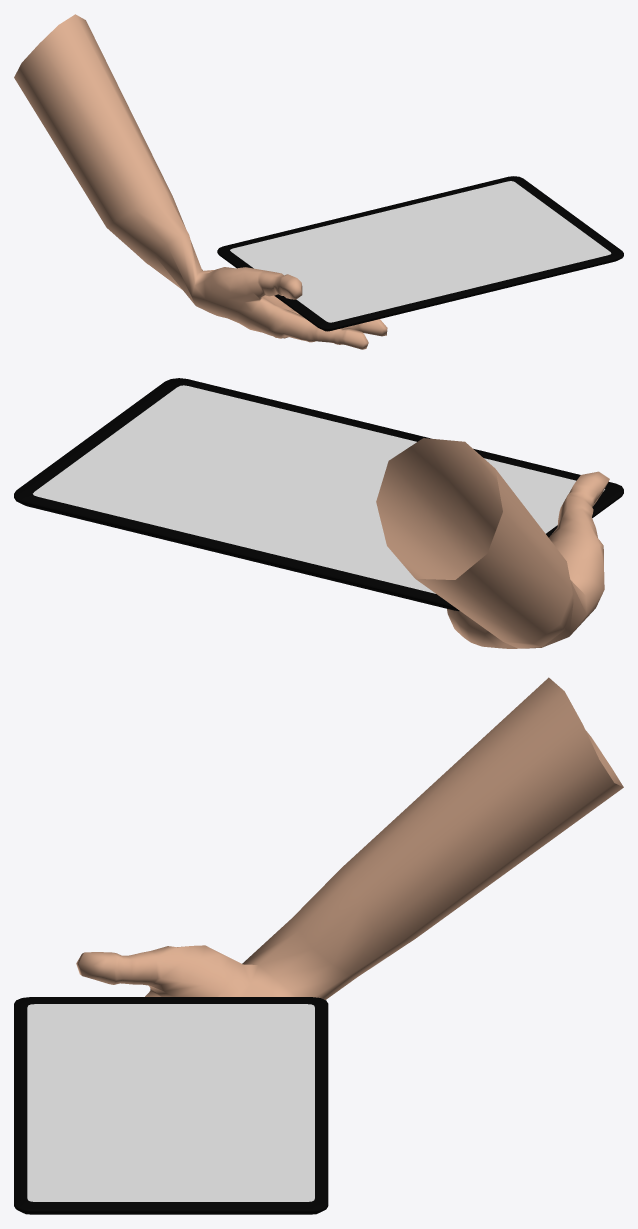
The model's file is tablet1.fbx.
3 renders of one model, top to bottom at view 1: azimuth 30°, elevation 25°; view 2: azimuth 150°, elevation 25°; view 3: azimuth 270°, elevation 25°, orthographic. The views are drawn at different scales.
Parts seen in each view (by area): view 1: polySurface156, polySurface155, polySurface154; view 2: polySurface155, polySurface156, polySurface154; view 3: polySurface155, polySurface156, polySurface154.
Boxes of the visible parts, x1=… form: polySurface156: x1=14, y1=14, x2=387, y2=349; polySurface155: x1=230, y1=181, x2=611, y2=322; polySurface154: x1=217, y1=176, x2=623, y2=331; polySurface155: x1=33, y1=385, x2=604, y2=593; polySurface156: x1=376, y1=438, x2=609, y2=648; polySurface154: x1=14, y1=378, x2=623, y2=611; polySurface155: x1=27, y1=1004, x2=314, y2=1201; polySurface156: x1=76, y1=677, x2=623, y2=999; polySurface154: x1=14, y1=997, x2=328, y2=1214.
Bounding box in the file's own units: 15.2 × 8.36 × 13.62.
3 materials, 1 textured.
